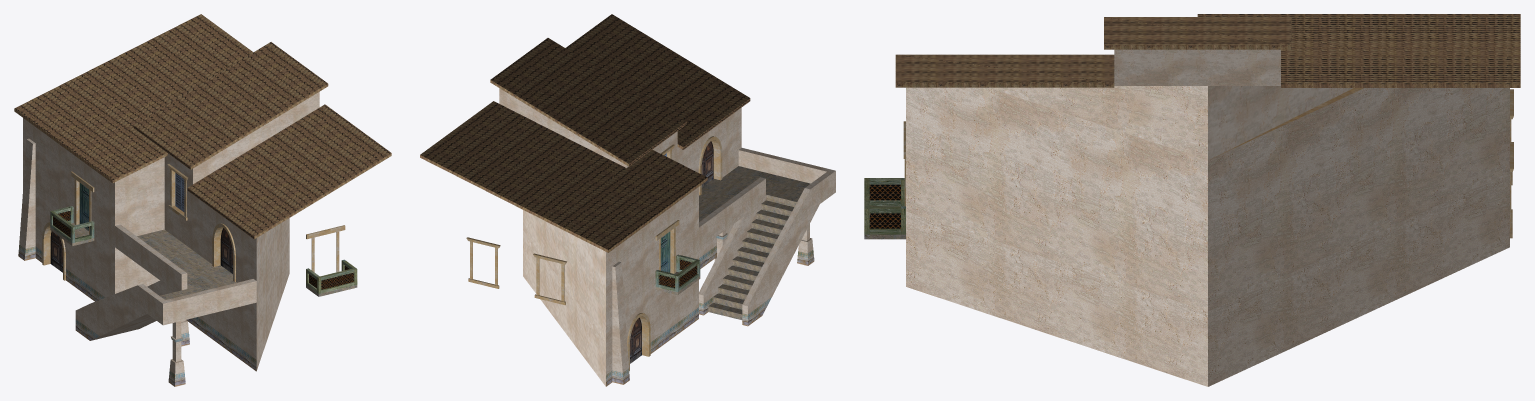
The model's file is mexbuild14.fbx.
3 views of the same model, side by side, from view 1: azimuth 30°, elevation 25°; view 2: azimuth 150°, elevation 25°; view 3: azimuth 270°, elevation 25° (orthographic). The views are drawn at different scales.
Visible parts, largest first — view 1: mexbuild14; view 2: mexbuild14; view 3: mexbuild14.
Boxes of the visible parts, x1,y1,x2,y2 form: mexbuild14: (14, 14, 391, 386); mexbuild14: (420, 14, 835, 386); mexbuild14: (864, 14, 1520, 386).
Size of the model in its own units: 65603 by 58900 by 100800.
